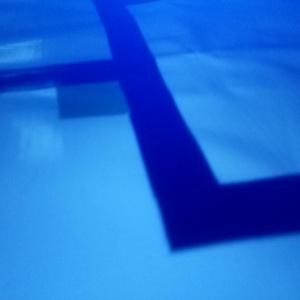bottom_left: (57, 65, 158, 117)
